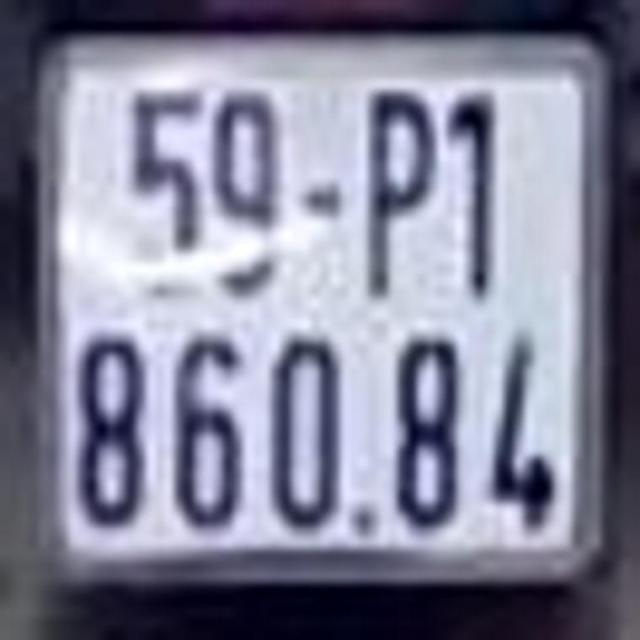0: (264, 313, 343, 537)
1: (441, 72, 514, 309)
4: (494, 314, 564, 543)
5: (117, 81, 206, 298)
6: (165, 319, 248, 532)
8: (386, 321, 466, 529), (70, 320, 146, 538)
9: (208, 76, 290, 300)
P: (356, 80, 437, 311)
